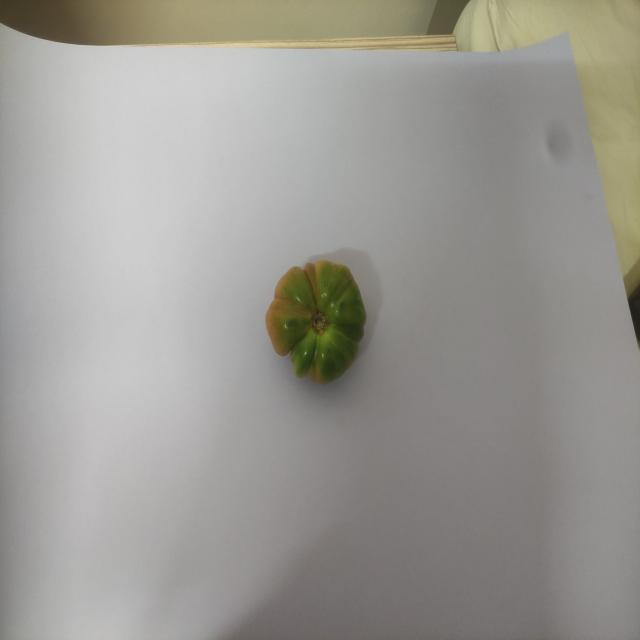yesil: (252, 236, 392, 391)
